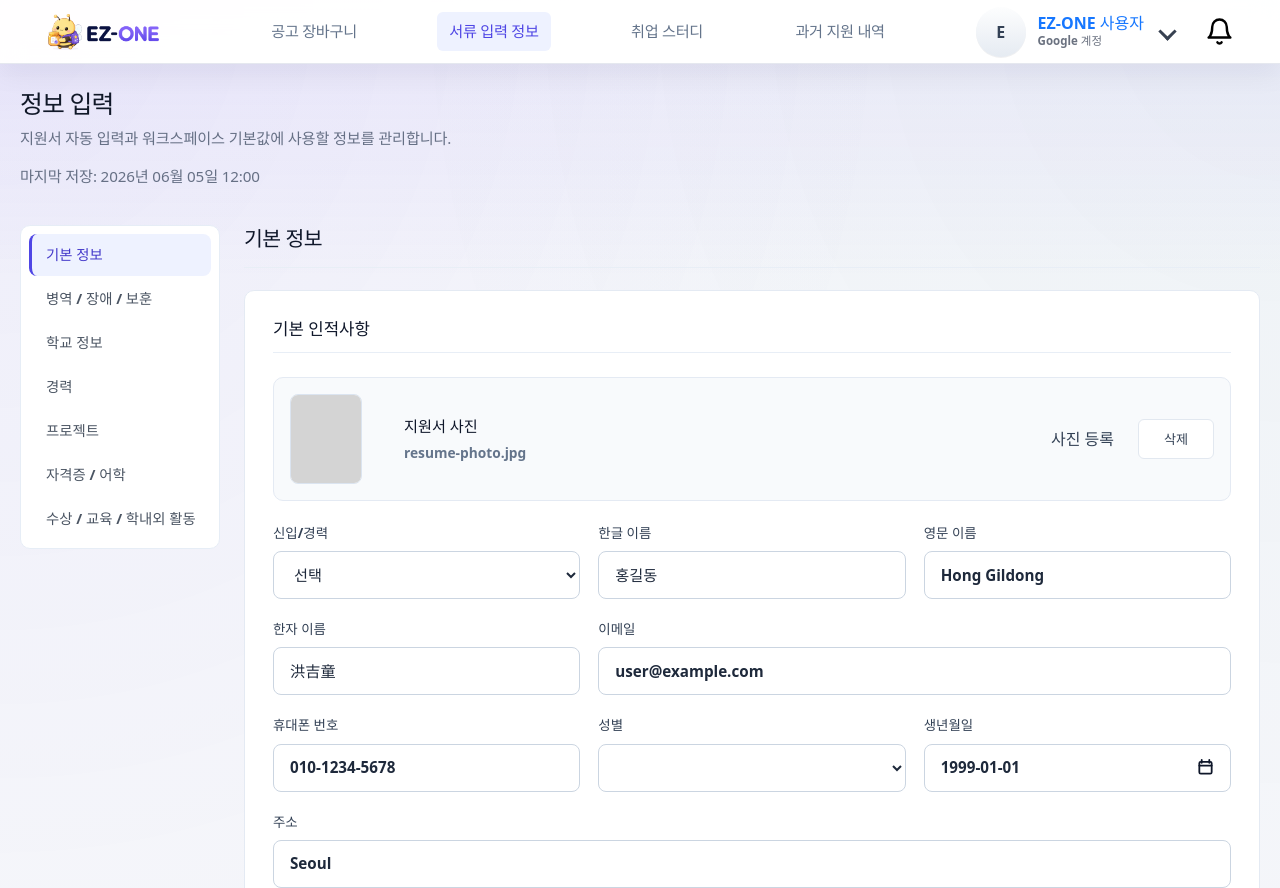
DocumentProfilePage › PROFILE-012/013: uses day-level school dates and removes high school GPA
This screenshot has width=1280, height=888.
Click the button with test id "section-education". click: [120, 343]
box: [29, 322, 211, 364]
(page scrolled)
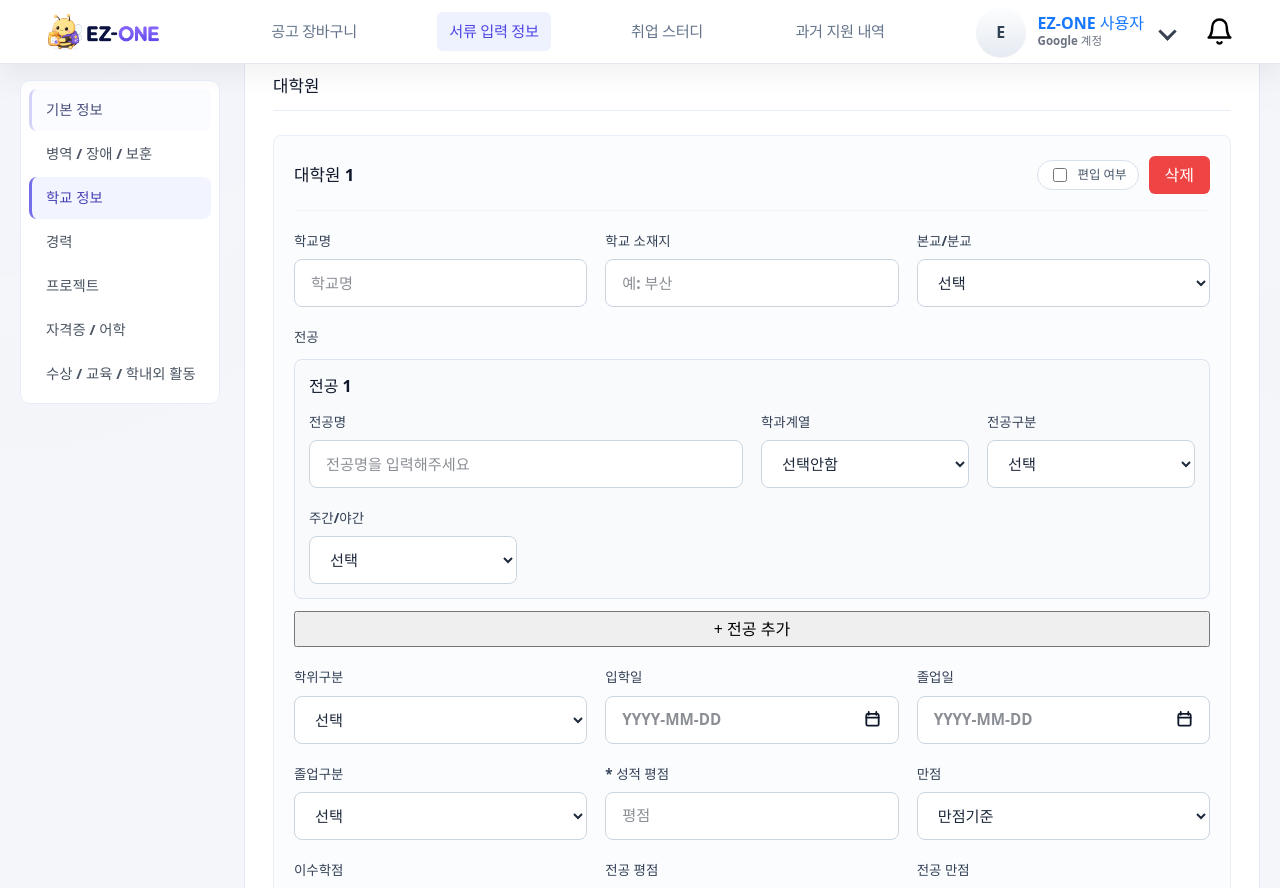
expect the label with test id "graduateSchools-0-completedCredits" reads "이수학점": met, box [294, 861, 344, 879]
expect the label with test id "graduateSchools-0-majors-0-major" reads "전공명": met, box [309, 413, 346, 431]
